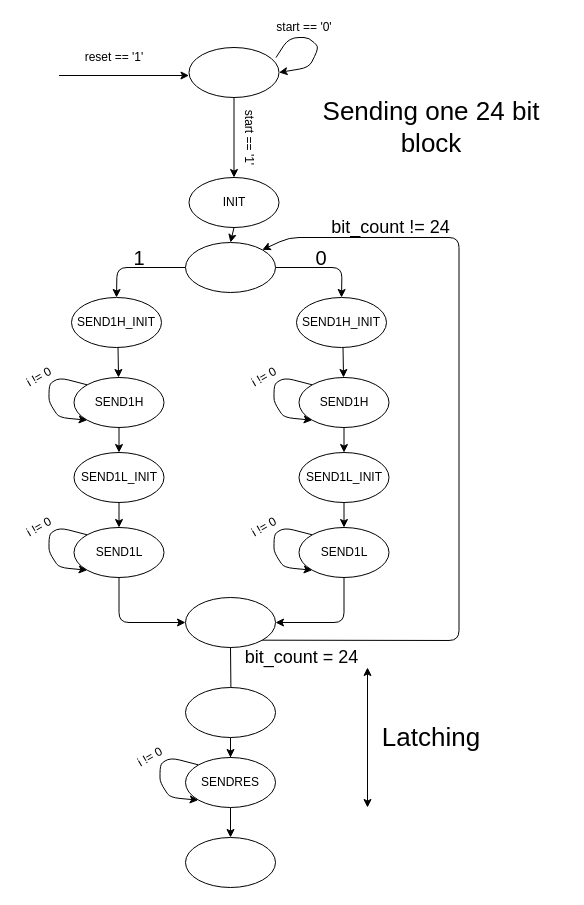
Image size: 584x905. Some labels were removed from this diagram. Here are the shapes that lost their labels. From the top down, the box of each, then its label:
(188, 46, 279, 98): Ready
(184, 242, 276, 292): SEND_IF01
(184, 596, 276, 648): SHIFT_CHECK
(184, 686, 276, 738): SENDRES_INIT
(184, 836, 276, 888): DONE
